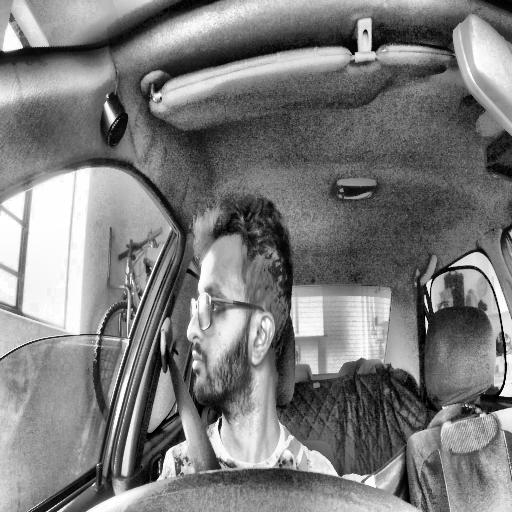awake: (186, 192, 294, 401)
